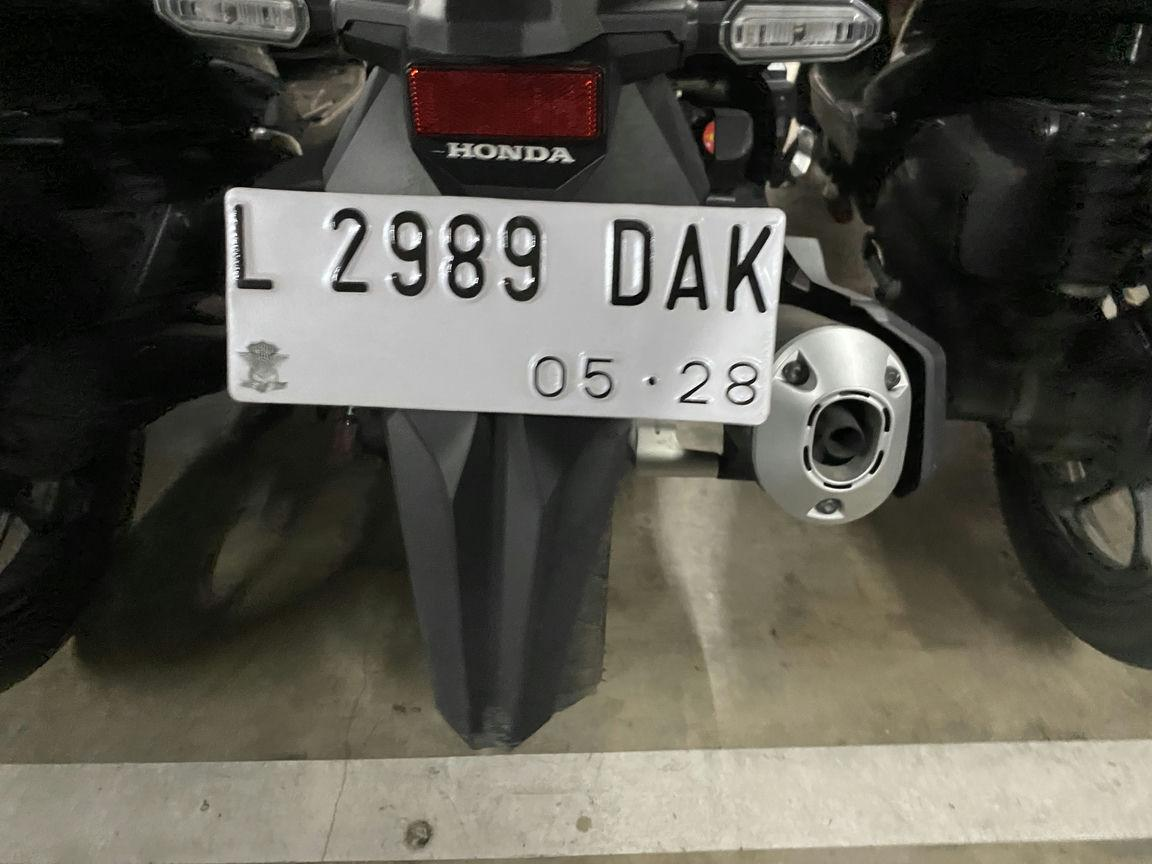plat: (225, 189, 785, 425)
